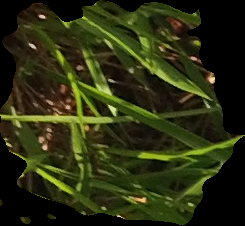grass: (1, 1, 244, 225)
